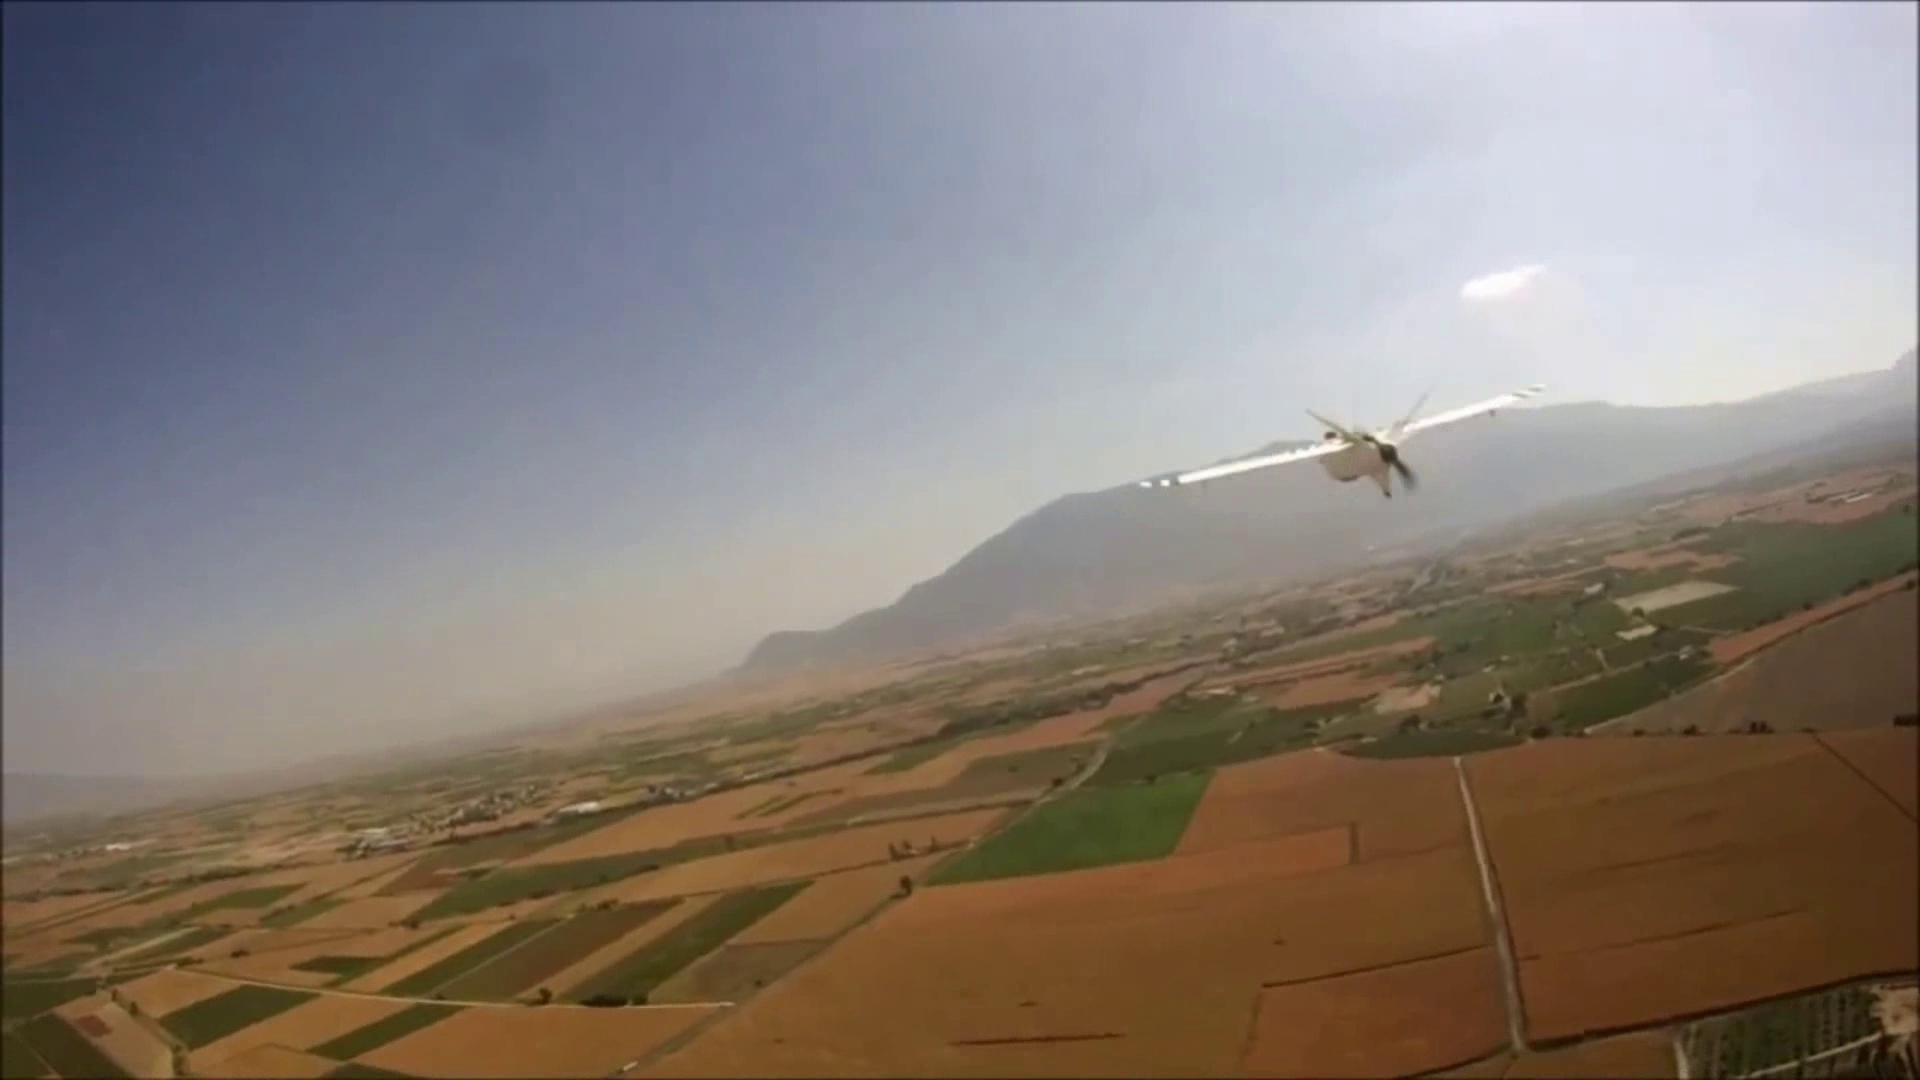airplane: (1305, 409, 1416, 496)
